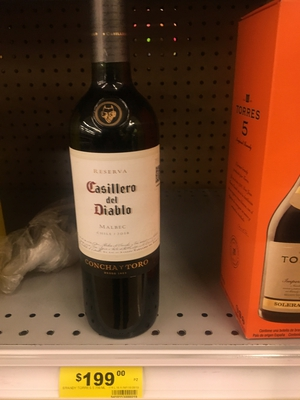casillero del diablo malbec: (59, 14, 180, 345)
